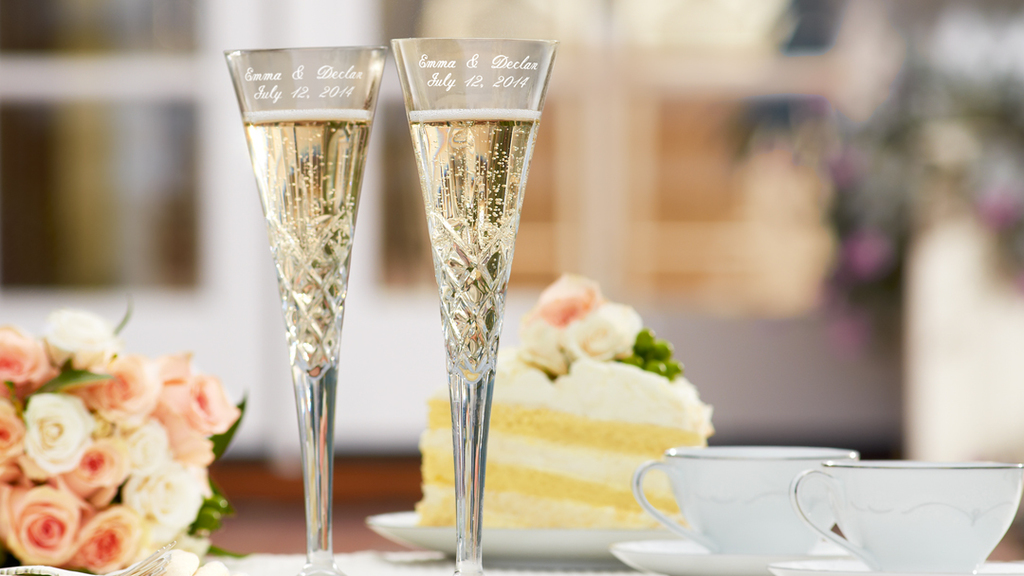plate: (611, 548, 1023, 575)
